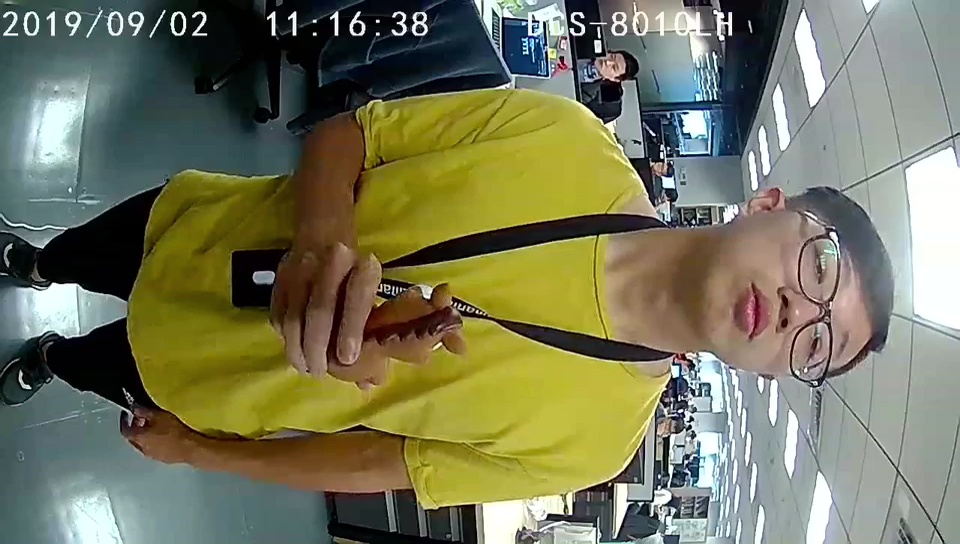horse: (376, 281, 467, 384)
